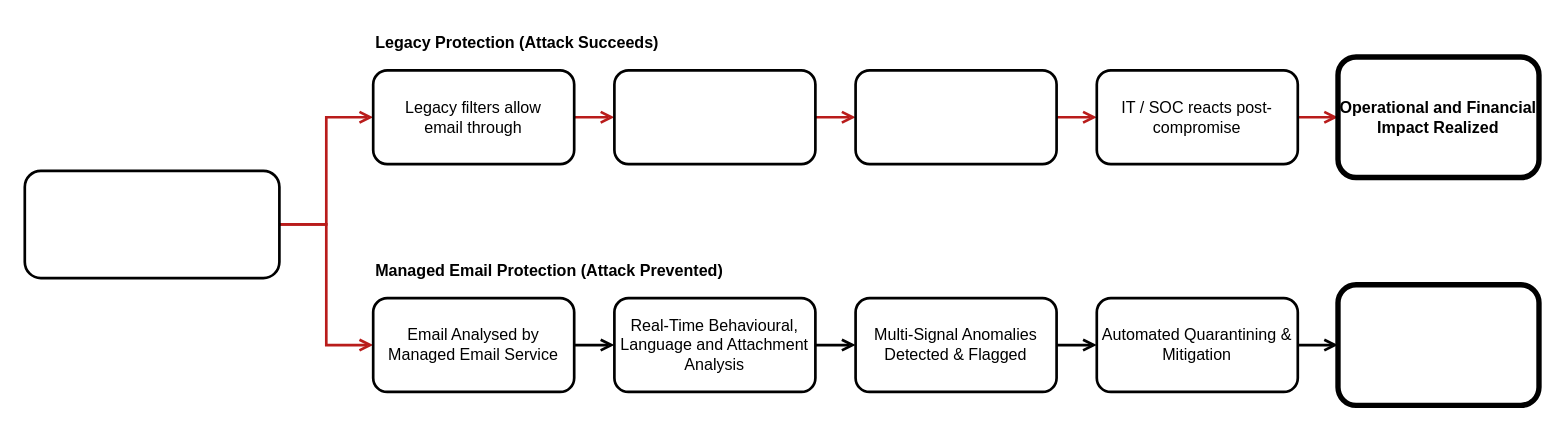
This 1564x430 diagram has some shape labels left out. Here are the shapes that lost their labels. From the top down, the centre of each, then its label:
(714,116): Employee Executes Malicious Instructions
(955,116): Impact Achieved: Data Exfiltration or Fraudulent Payment
(151,224): Attackers Send Malicious Attachments Disguised as Routine Documents
(1438,344): Zero Business Impact Achieved
